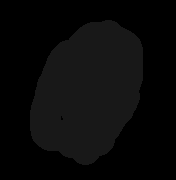fp: (23, 13, 145, 164)
